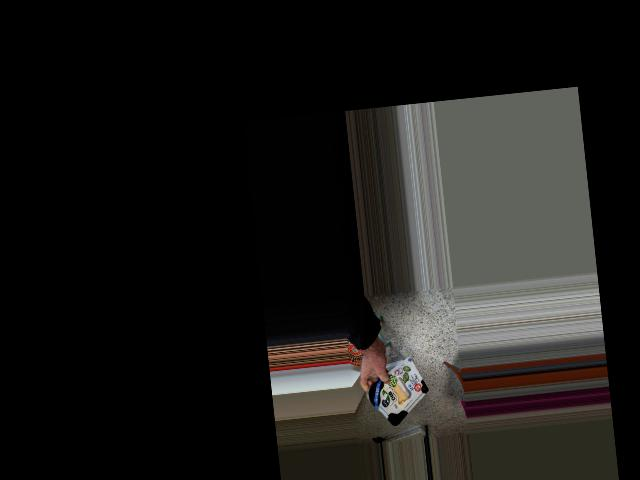cheese: (362, 359, 437, 427)
